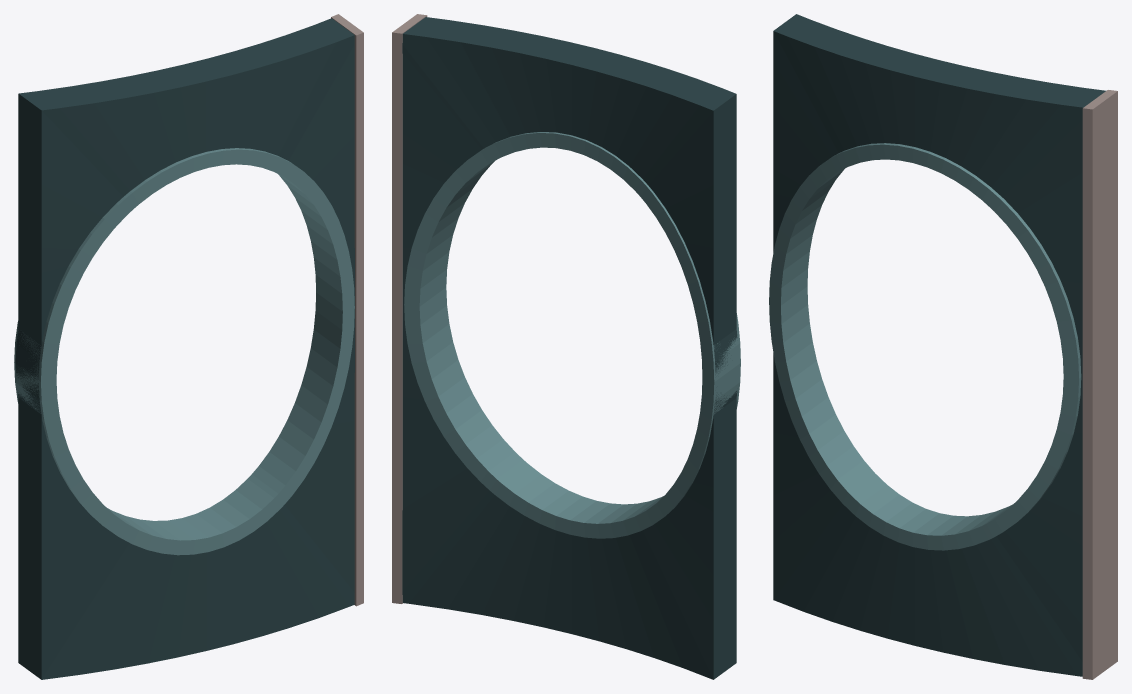
The model's file is door_hatch.glb.
3 renders of one model, left to right at view 1: azimuth 30°, elevation 25°; view 2: azimuth 150°, elevation 25°; view 3: azimuth 330°, elevation 25°, orthographic.
Visible parts, largest first — view 1: plate_5_11, hole_trim_11_11, end_cap_11_14; view 2: plate_5_11, hole_trim_11_11, end_cap_11_14; view 3: plate_5_11, hole_trim_11_11, end_cap_11_14.
Boxes of the visible parts, x1,y1,x2,y2 form: plate_5_11: [15, 18, 354, 679]; hole_trim_11_11: [14, 148, 354, 555]; end_cap_11_14: [331, 14, 363, 606]; plate_5_11: [402, 17, 737, 679]; hole_trim_11_11: [404, 132, 740, 538]; end_cap_11_14: [392, 14, 427, 603]; plate_5_11: [773, 14, 1106, 676]; hole_trim_11_11: [769, 143, 1081, 550]; end_cap_11_14: [1082, 90, 1117, 679].
Size of the model in its own units: 1.26 by 2.13 by 0.2611.
